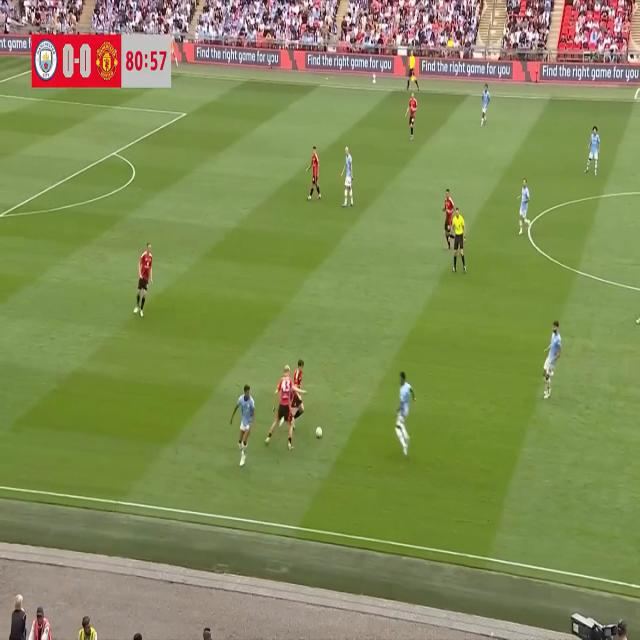ball: (313, 421, 327, 448)
players: (260, 359, 298, 458), (392, 369, 427, 461), (226, 380, 256, 470), (282, 354, 310, 434), (538, 317, 564, 401), (131, 241, 154, 324), (303, 142, 327, 208), (437, 184, 461, 249), (336, 144, 358, 214), (514, 171, 533, 238), (582, 118, 603, 176), (404, 88, 422, 150), (477, 78, 492, 136)
refree: (446, 206, 472, 279), (405, 44, 422, 97)
